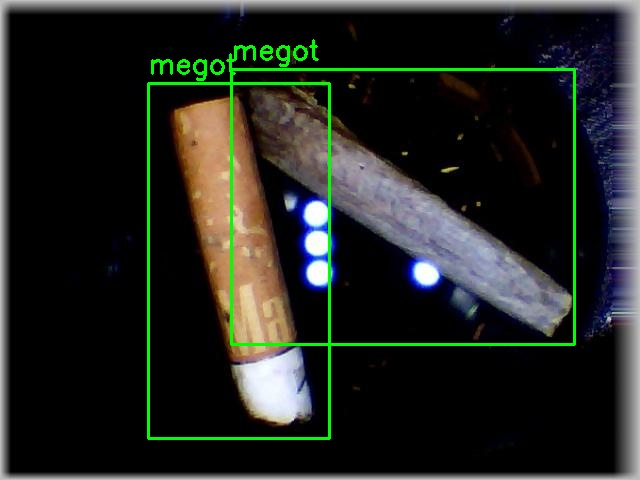megot: (231, 69, 574, 344), (148, 83, 329, 438)
